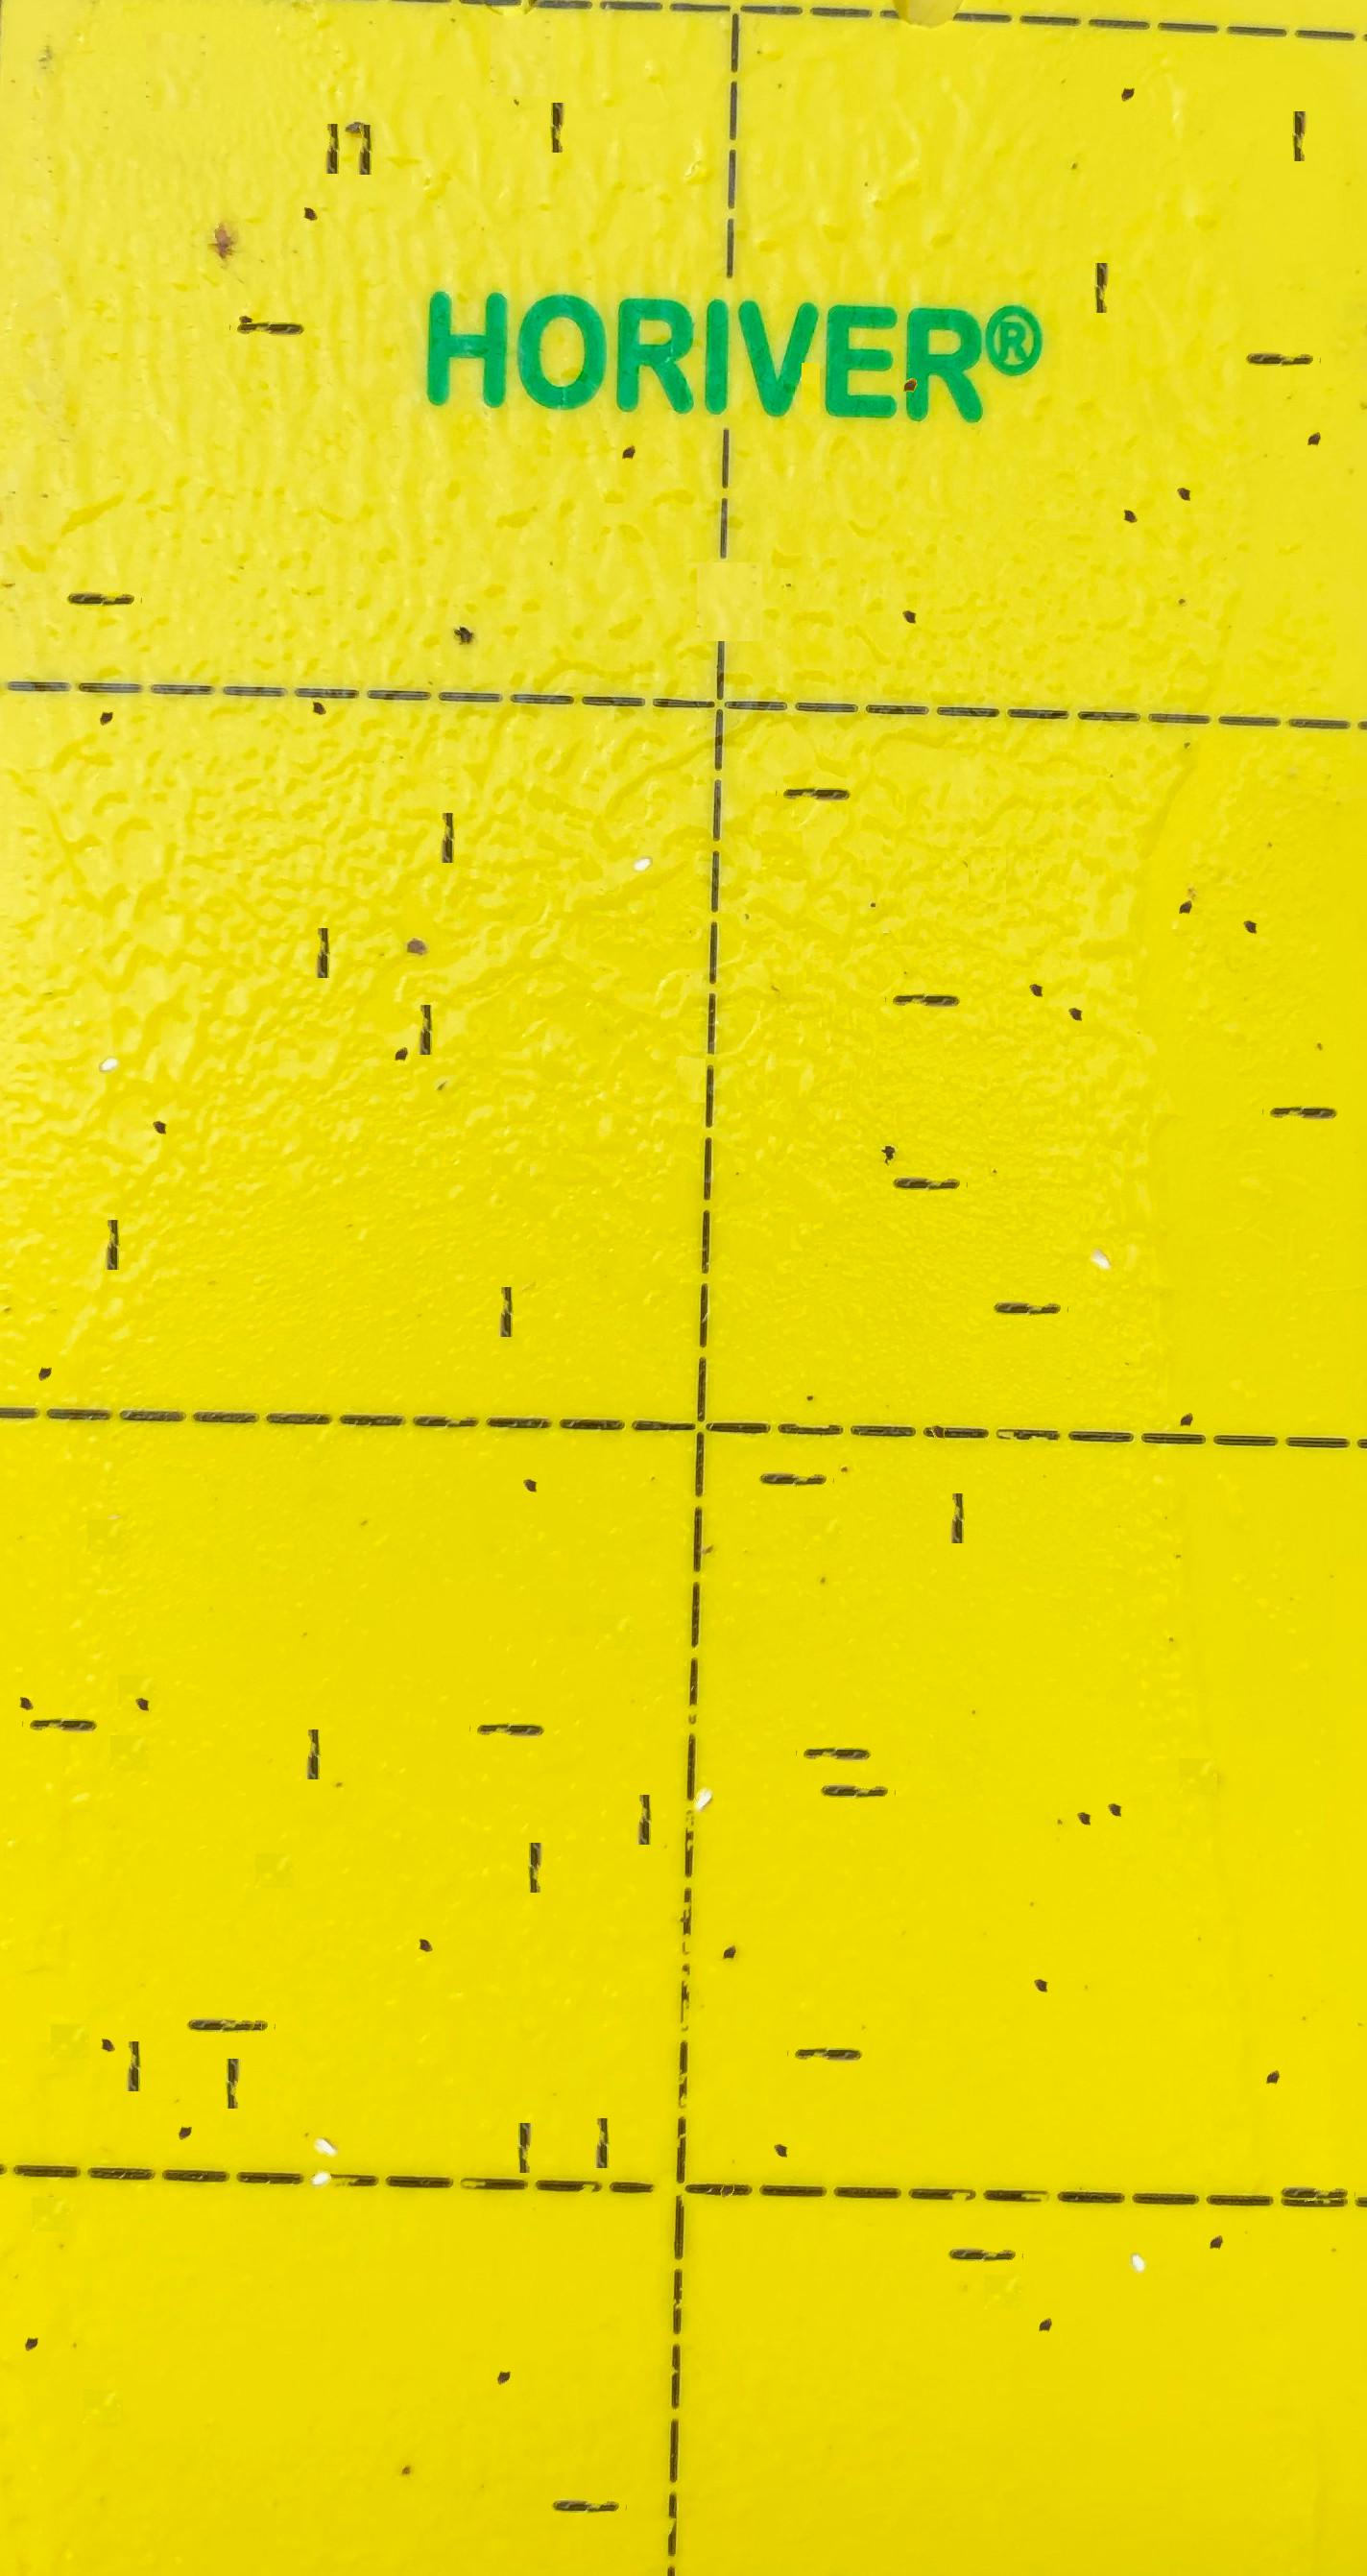white_fly: (89, 993, 131, 1041), (620, 792, 663, 840), (300, 2107, 343, 2155), (1116, 2193, 1159, 2240), (302, 2080, 344, 2126), (680, 1729, 723, 1775), (1079, 1194, 1122, 1237)
